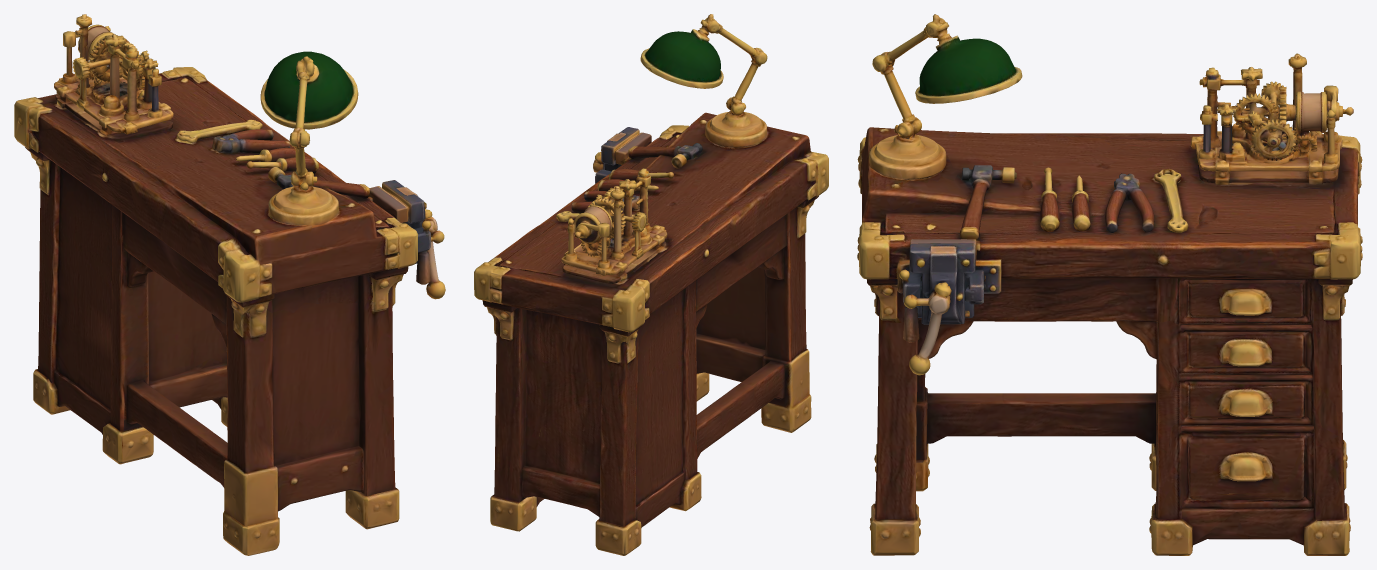
Rendered from prop_workbench.glb.
3 views of the same model, side by side, from view 1: azimuth 30°, elevation 25°; view 2: azimuth 150°, elevation 25°; view 3: azimuth 270°, elevation 25° (orthographic). The views are drawn at different scales.
Parts seen in each view (by area): view 1: tripo_node_519b08bf-ecfb-4516-a185-2592ceff3999; view 2: tripo_node_519b08bf-ecfb-4516-a185-2592ceff3999; view 3: tripo_node_519b08bf-ecfb-4516-a185-2592ceff3999.
Part boxes in pixels (box(x1,y1,x2,y2)): tripo_node_519b08bf-ecfb-4516-a185-2592ceff3999: box(14, 14, 445, 555); tripo_node_519b08bf-ecfb-4516-a185-2592ceff3999: box(474, 14, 828, 555); tripo_node_519b08bf-ecfb-4516-a185-2592ceff3999: box(857, 14, 1362, 555).
Bounding box in the file's own units: 0.5238 × 0.9779 × 0.8842.
Materials: 1 (1 with a texture image).
